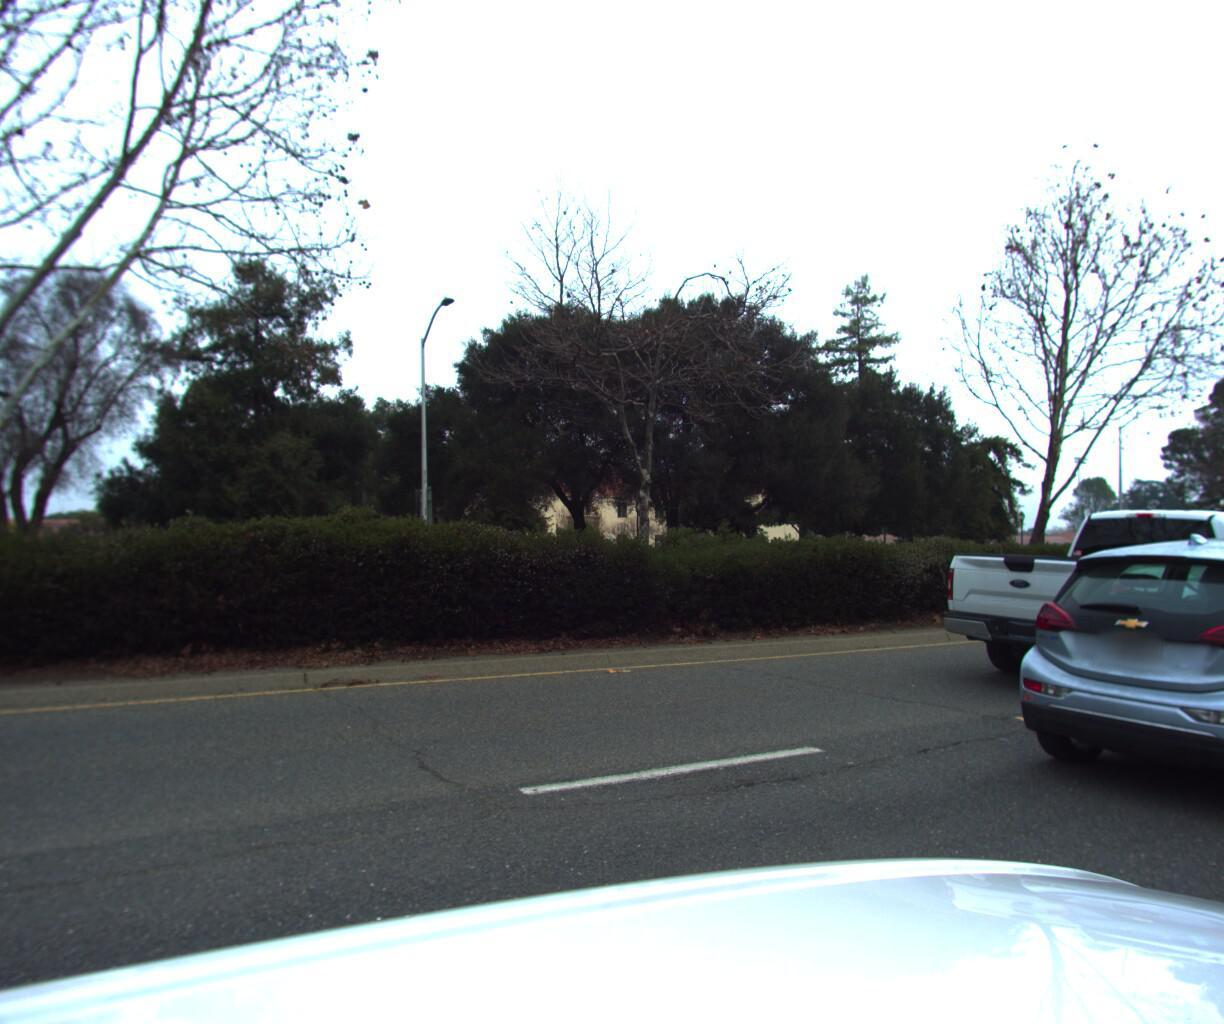car: (967, 519, 1224, 829), (935, 487, 1224, 702)
